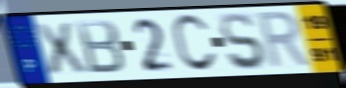2: (132, 17, 176, 73)
B: (73, 18, 127, 76)
C: (170, 12, 220, 75)
R: (255, 9, 314, 72)
S: (218, 11, 268, 72)
X: (31, 20, 91, 77)
